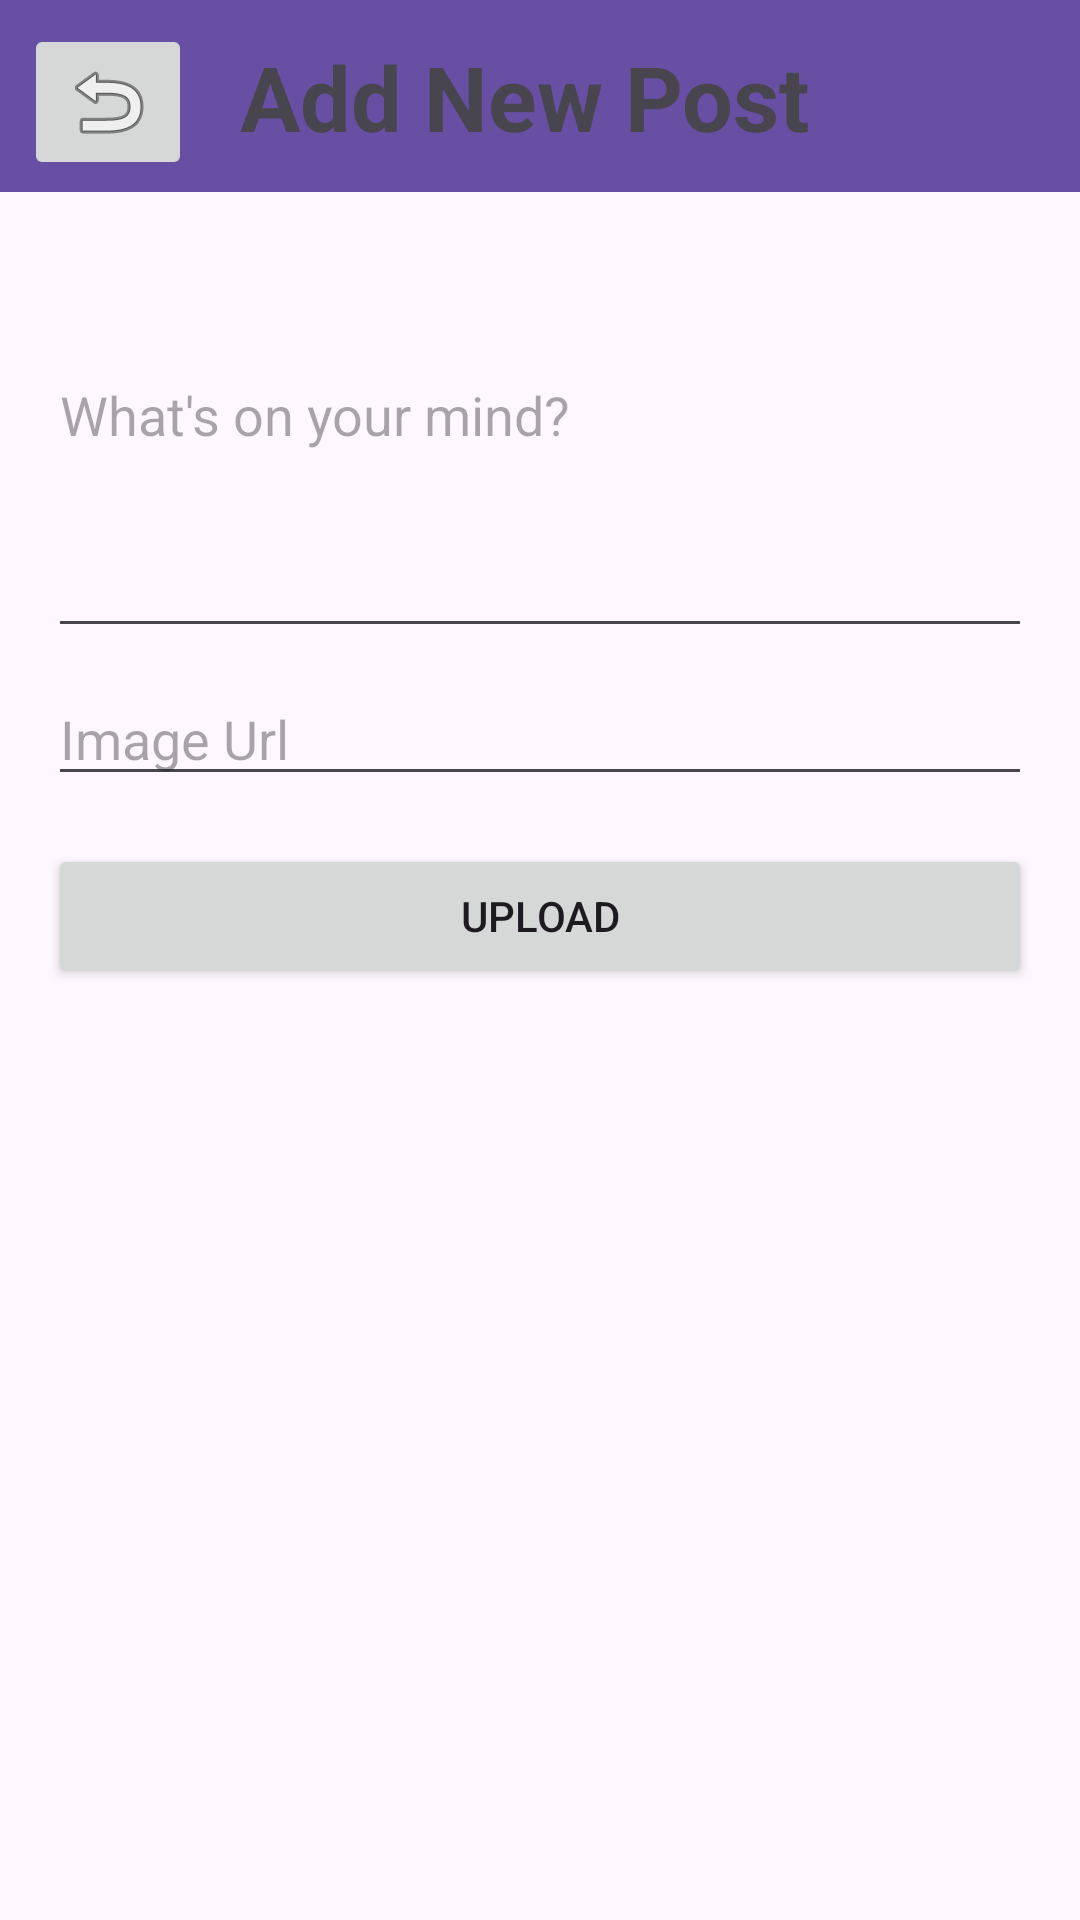

Named icons in this screenshot (1080 x 1920) and their centers, (x=x, y=y):
revert: (x=108, y=102)
